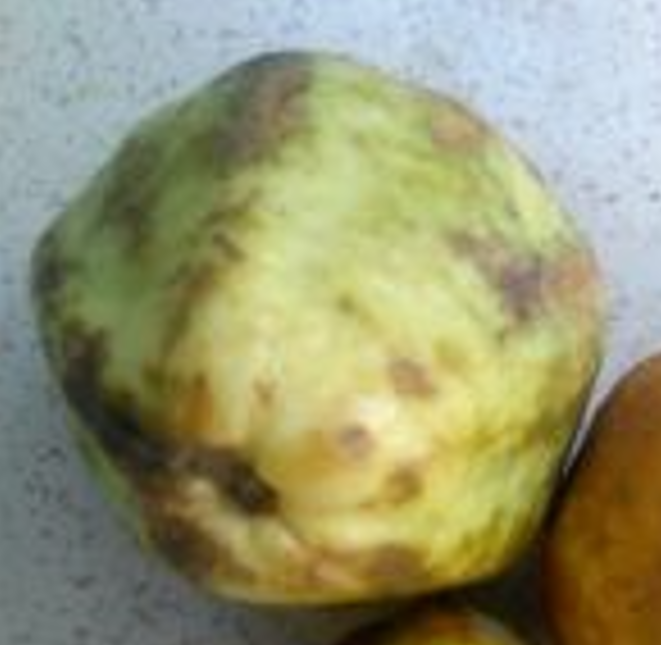guava_B: (31, 51, 607, 607)
